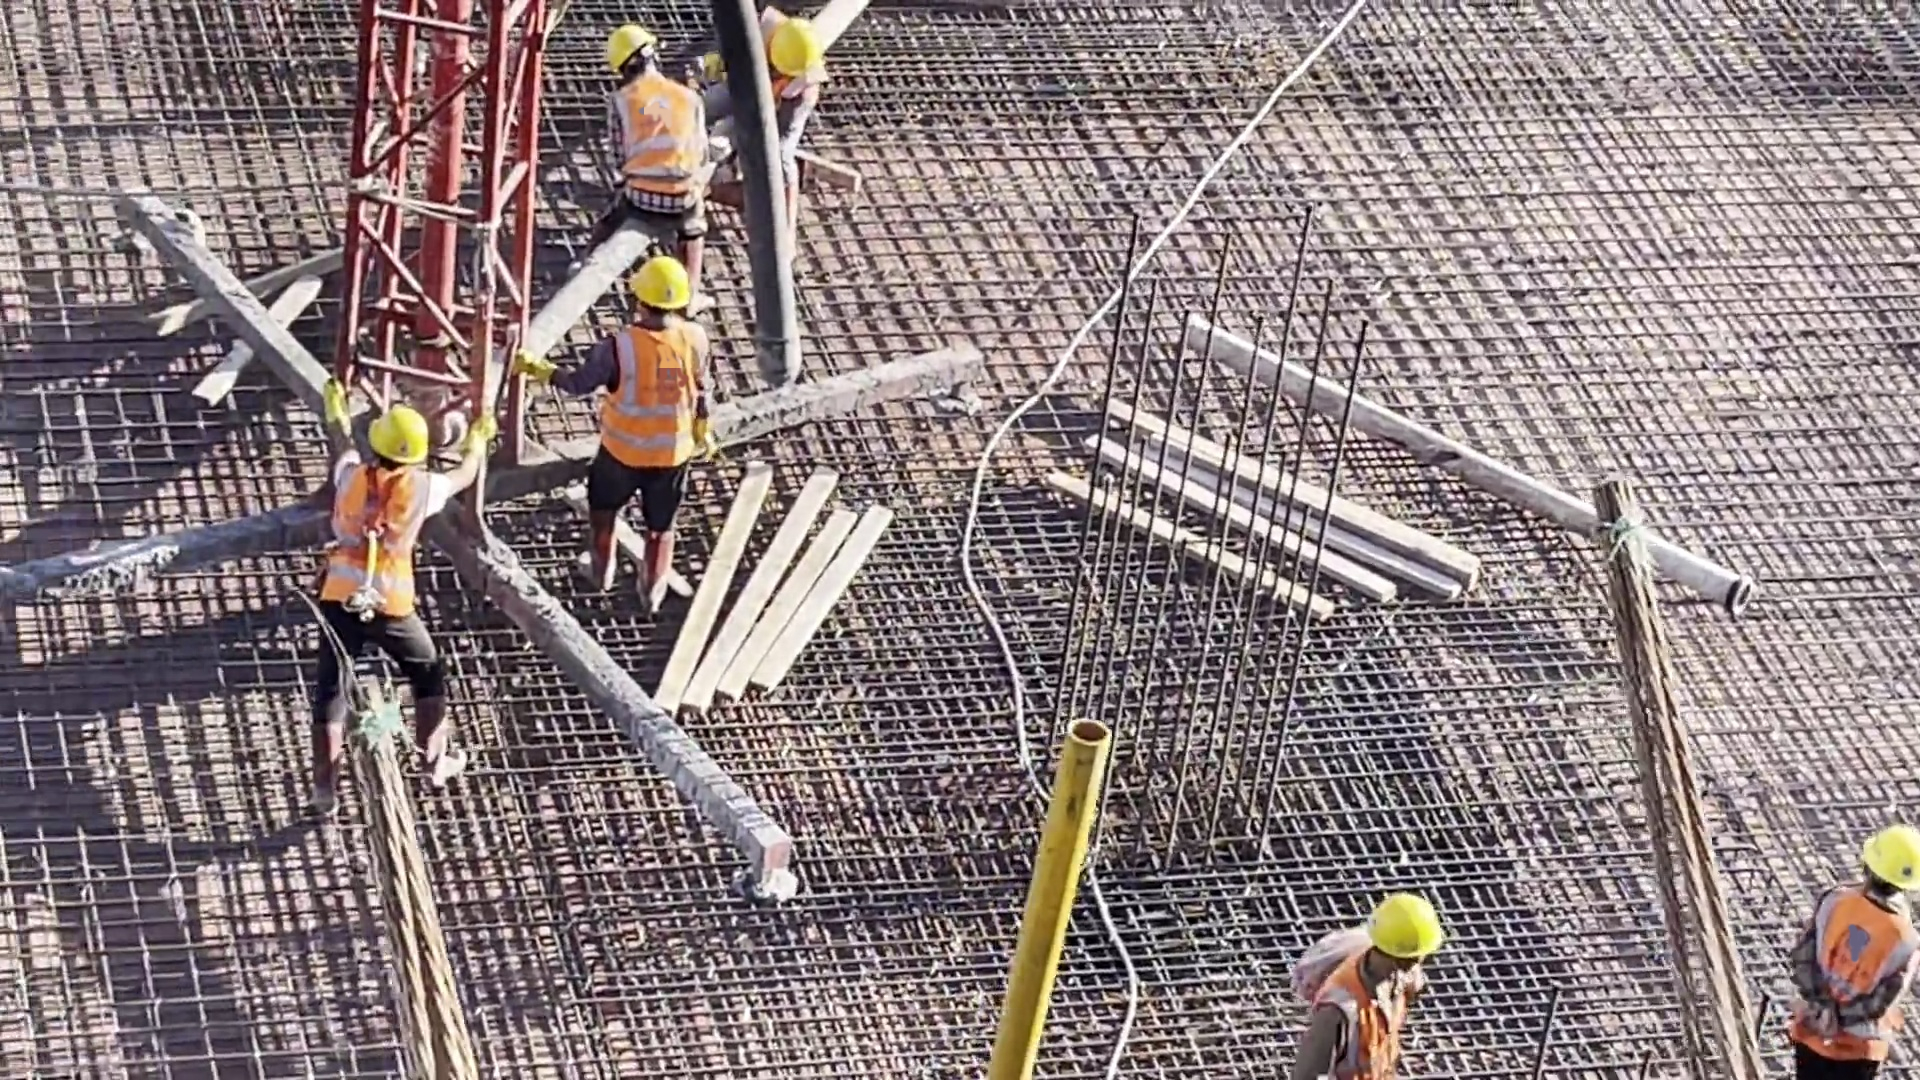helmet: (1373, 897, 1444, 955), (1856, 821, 1919, 885), (367, 408, 429, 459), (628, 257, 687, 309), (768, 23, 817, 73), (603, 29, 649, 76)
person: (519, 252, 709, 616), (313, 380, 478, 791), (1793, 827, 1920, 1080), (1281, 887, 1446, 1080), (599, 27, 704, 253), (692, 6, 814, 193)
vest: (1808, 895, 1908, 1069), (1323, 965, 1445, 1080), (328, 469, 413, 617), (616, 331, 704, 467), (619, 89, 692, 200)
